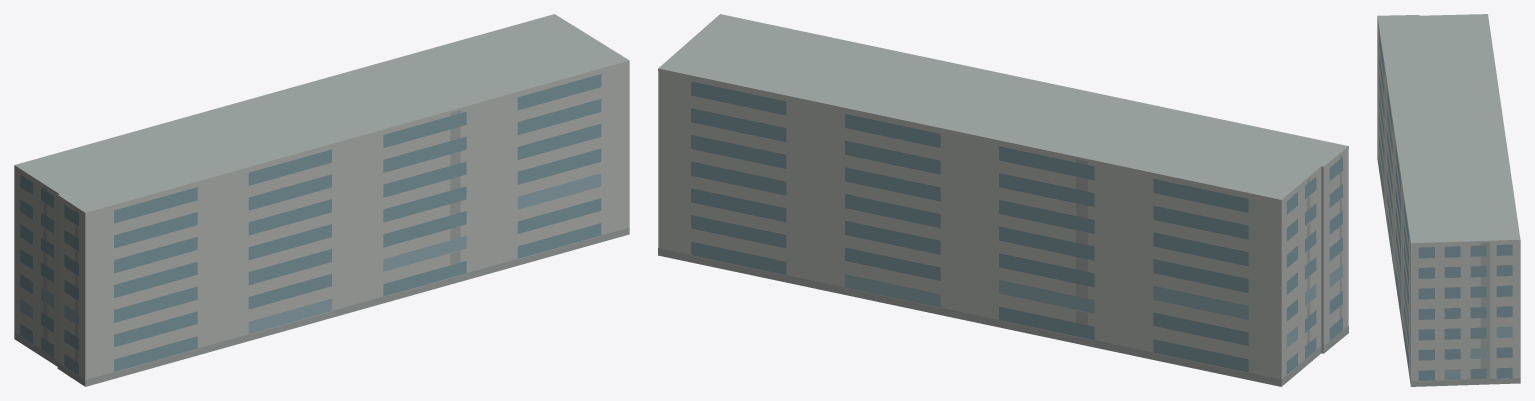
The model's file is survey-upis-32810097.glb.
3 renders of one model, left to right at view 1: azimuth 30°, elevation 25°; view 2: azimuth 150°, elevation 25°; view 3: azimuth 270°, elevation 25°, orthographic. The views are drawn at different scales.
Visible parts, largest first — view 1: survey-upis-32810097.tmp; view 2: survey-upis-32810097.tmp; view 3: survey-upis-32810097.tmp.
Part boxes in pixels (left/top/right/bottom): survey-upis-32810097.tmp: left=14, top=14, right=629, bottom=386; survey-upis-32810097.tmp: left=658, top=14, right=1348, bottom=386; survey-upis-32810097.tmp: left=1377, top=14, right=1520, bottom=386.
Bounding box in the file's own units: 64.33 × 18.8 × 16.97.
